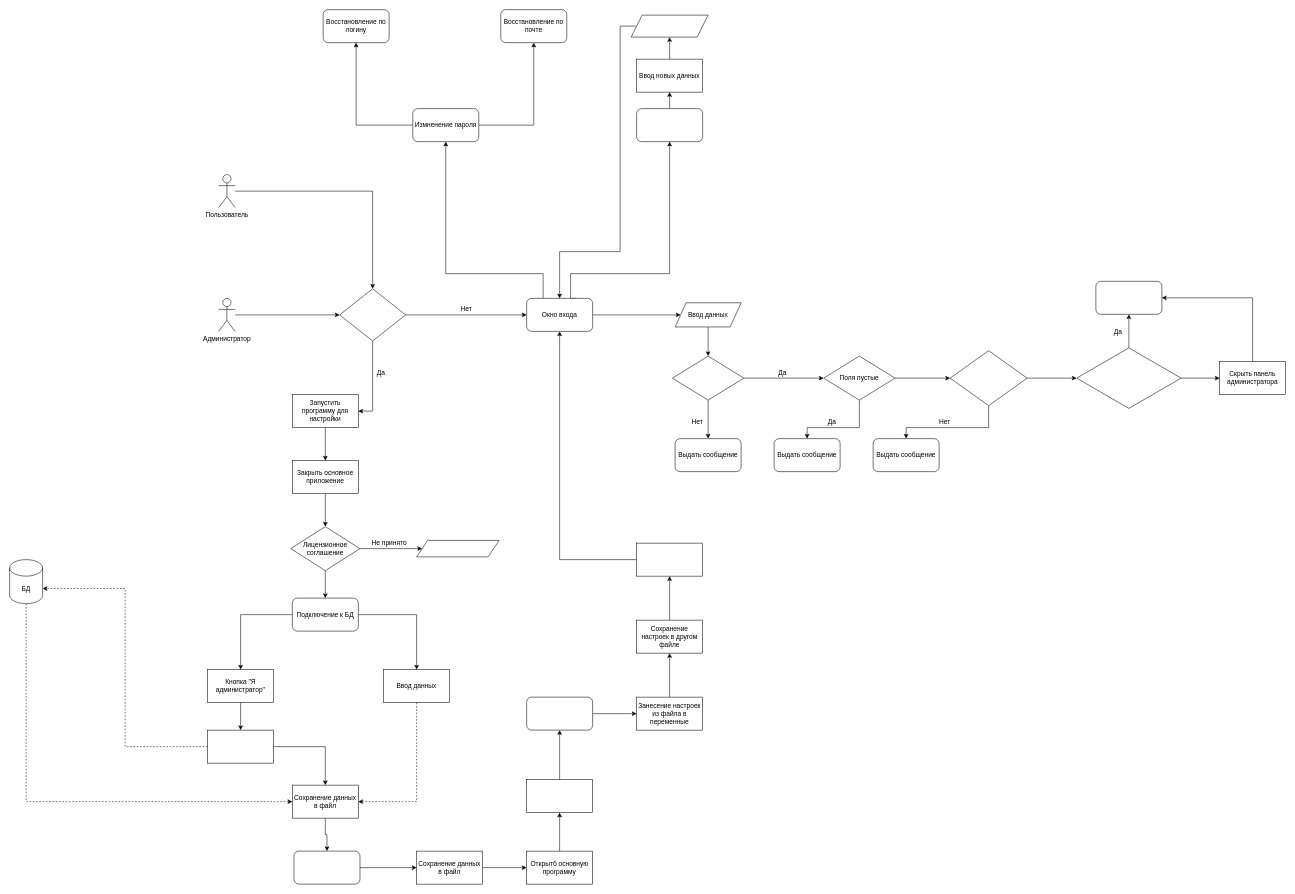
Image size: 1295x894. Some labels were removed from this diagram. The box of each missing label's shape, as (x1, y1, x2, y2) in pixels:
Выбор темы: (293, 851, 360, 884)
Есть ли доступ к БД: (672, 356, 744, 400)
Закрыть программу: (416, 540, 499, 557)
Закрыть программу настройки: (526, 779, 593, 813)
Измненение подключения к БД: (636, 108, 703, 142)
Миграция настроек: (526, 697, 593, 730)
Открыть журнал: (1095, 281, 1162, 314)
Первый запуск?: (339, 288, 406, 341)
Подходят ли введенные данные: (950, 350, 1027, 406)
Регистрация пользователя: (207, 730, 274, 763)
Сохранение данных: (631, 15, 708, 37)
Удаление старого файла: (636, 543, 703, 576)
Является ли пользователь администратором: (1076, 347, 1181, 408)
